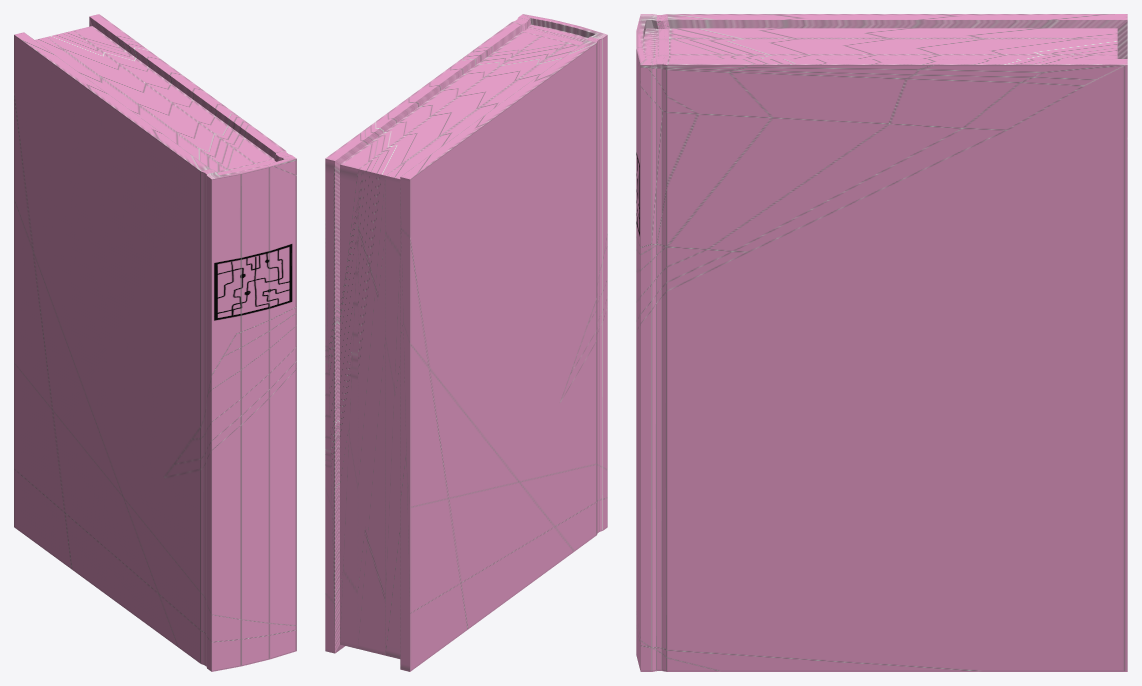
The model's file is book8.fbx.
The picture shows the model from 3 angles, left to right: view 1: azimuth 30°, elevation 25°; view 2: azimuth 150°, elevation 25°; view 3: azimuth 270°, elevation 25°; orthographic projection. The views are drawn at different scales.
Visible parts, largest first — view 1: Architexture; view 2: Architexture; view 3: Architexture.
Part boxes in pixels (left/top/right/bottom): Architexture: left=14, top=14, right=296, bottom=671; Architexture: left=325, top=14, right=607, bottom=671; Architexture: left=636, top=14, right=1127, bottom=671.
Size of the model in its own units: 2.71 by 15 by 11.01.
1 material, 1 textured.
